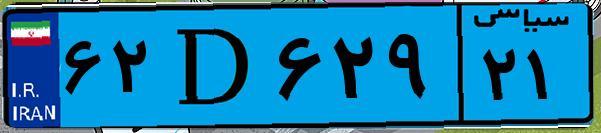1: (525, 38, 570, 115)
2: (330, 28, 385, 110), (475, 38, 525, 113), (110, 28, 158, 98)
6: (270, 28, 330, 110), (57, 26, 110, 100)
9: (385, 28, 445, 110)
D: (158, 12, 270, 120)
